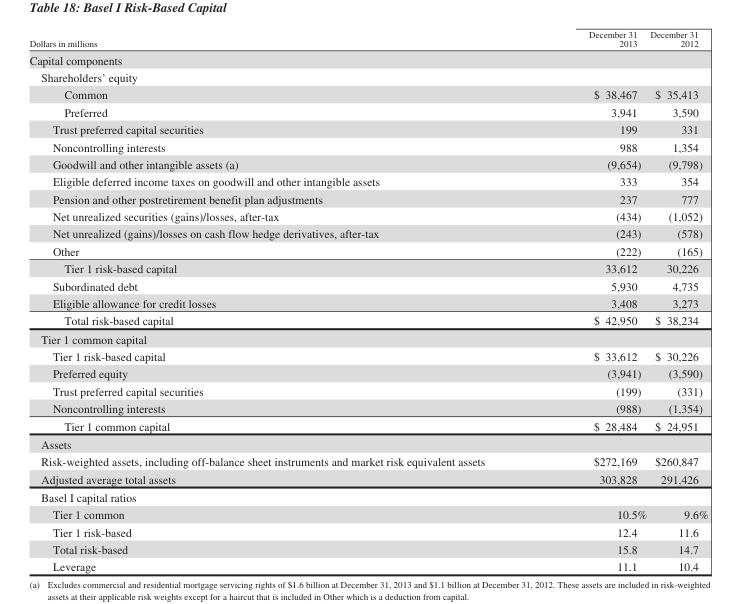table: (28, 29, 707, 573)
table column: (28, 29, 536, 573), (536, 29, 647, 573), (647, 29, 707, 573)
table column header: (28, 29, 707, 50)
table projected row header: (28, 50, 707, 68), (28, 329, 707, 347), (28, 434, 707, 452), (28, 487, 707, 505), (28, 68, 707, 85)
table row: (28, 29, 707, 50), (28, 50, 707, 68), (28, 85, 707, 103), (28, 137, 707, 155), (28, 172, 707, 190), (28, 224, 707, 242), (28, 276, 707, 294), (28, 311, 707, 329), (28, 329, 707, 347), (28, 364, 707, 382), (28, 416, 707, 434), (28, 434, 707, 452), (28, 469, 707, 487), (28, 487, 707, 505), (28, 505, 707, 523), (28, 68, 707, 85), (28, 103, 707, 120), (28, 120, 707, 137), (28, 155, 707, 172), (28, 190, 707, 207), (28, 207, 707, 224), (28, 242, 707, 259), (28, 259, 707, 276), (28, 294, 707, 311), (28, 347, 707, 364), (28, 382, 707, 399), (28, 399, 707, 416), (28, 452, 707, 469), (28, 523, 707, 540), (28, 540, 707, 557), (28, 557, 707, 573)
